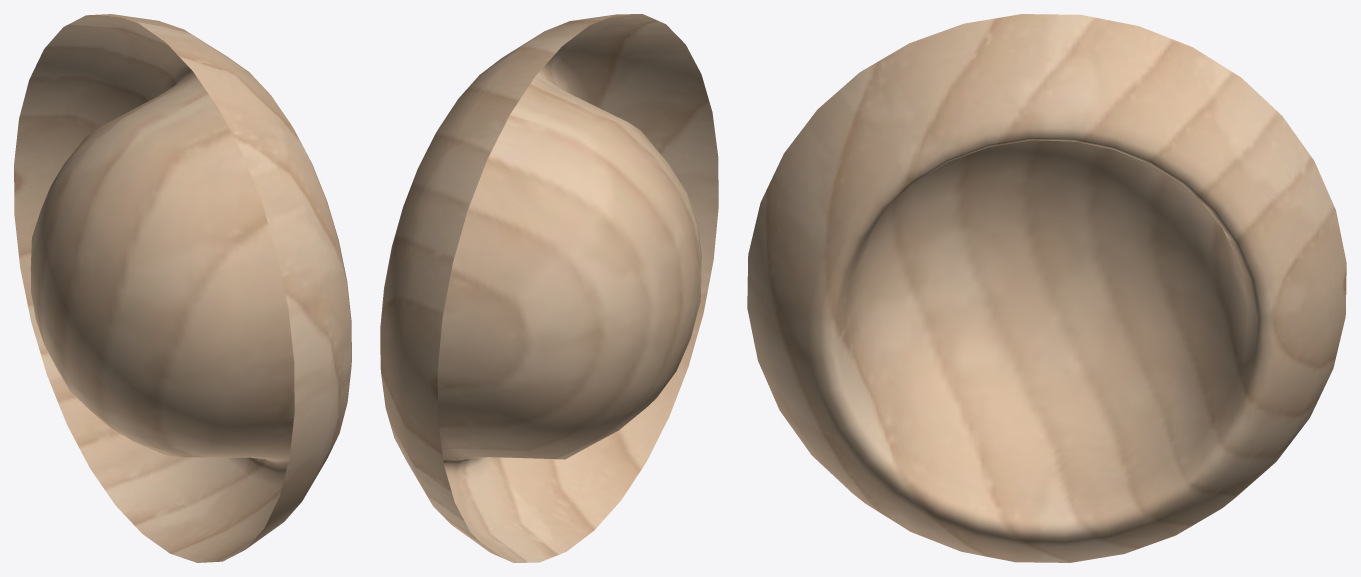
The model's file is basketLaceOB.glb.
3 renders of one model, left to right at view 1: azimuth 30°, elevation 25°; view 2: azimuth 150°, elevation 25°; view 3: azimuth 270°, elevation 25°, orthographic. The views are drawn at different scales.
Parts seen in each view (by area): view 1: basketLaceOB; view 2: basketLaceOB; view 3: basketLaceOB.
Boxes of the visible parts, x1=… form: basketLaceOB: x1=14, y1=14, x2=351, y2=562; basketLaceOB: x1=380, y1=14, x2=718, y2=562; basketLaceOB: x1=747, y1=14, x2=1346, y2=562.
Bounding box in the file's own units: 0.0242 × 0.0618 × 0.0618.
Materials: 1 (1 with a texture image).
